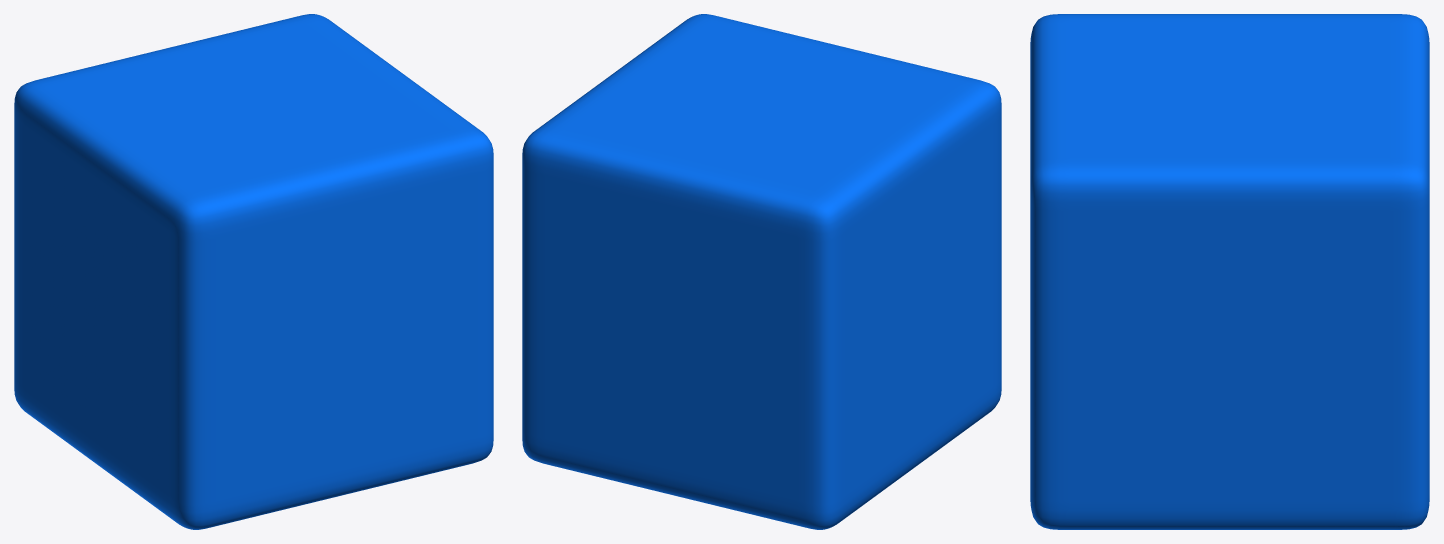
The picture shows the model from 3 angles, left to right: view 1: azimuth 30°, elevation 25°; view 2: azimuth 150°, elevation 25°; view 3: azimuth 270°, elevation 25°; orthographic projection. The views are drawn at different scales.
Visible parts, largest first — view 1: Box001; view 2: Box001; view 3: Box001.
Part boxes in pixels (x1=…): Box001: x1=14, y1=14, x2=493, y2=529; Box001: x1=522, y1=14, x2=1001, y2=529; Box001: x1=1030, y1=14, x2=1429, y2=529.
Bounding box in the file's own units: 20 × 20 × 20.
